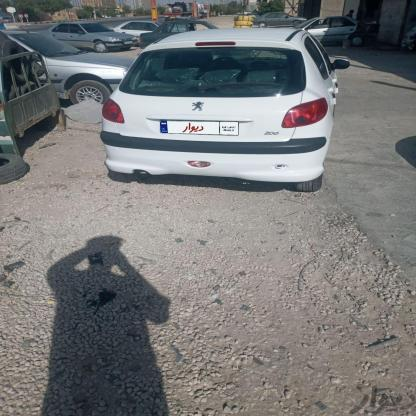Car: (96, 29, 354, 210), (0, 24, 141, 101), (44, 14, 136, 55), (289, 11, 373, 46), (138, 19, 224, 50), (254, 12, 307, 30), (117, 18, 156, 40)
